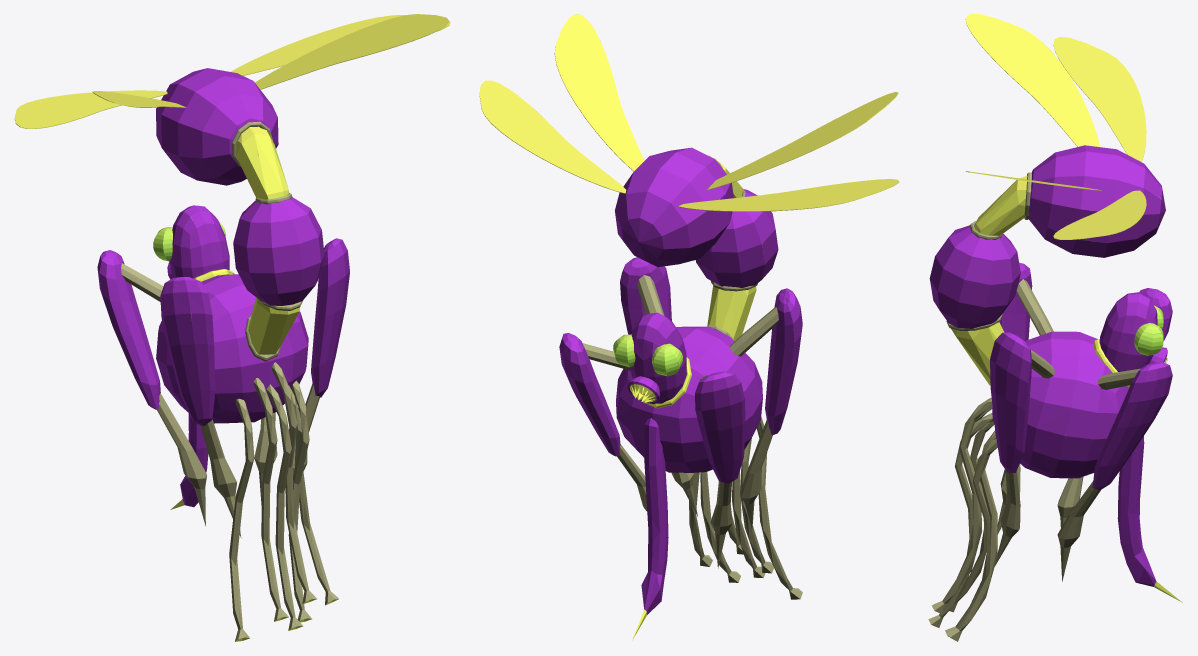
The model's file is WASP_BASE_proto.obj.
The picture shows the model from 3 angles, left to right: view 1: azimuth 30°, elevation 25°; view 2: azimuth 150°, elevation 25°; view 3: azimuth 270°, elevation 25°; orthographic projection. The views are drawn at different scales.
Visible parts, largest first — view 1: Cube.003_Cube.002; view 2: Cube.003_Cube.002; view 3: Cube.003_Cube.002.
Part boxes in pixels (x1,y1,x2,y2): Cube.003_Cube.002: (14, 14, 450, 641); Cube.003_Cube.002: (479, 14, 899, 640); Cube.003_Cube.002: (928, 14, 1182, 641).
Bounding box in the file's own units: 6.29 × 7.84 × 3.35.
Materials: 1 (1 with a texture image).
